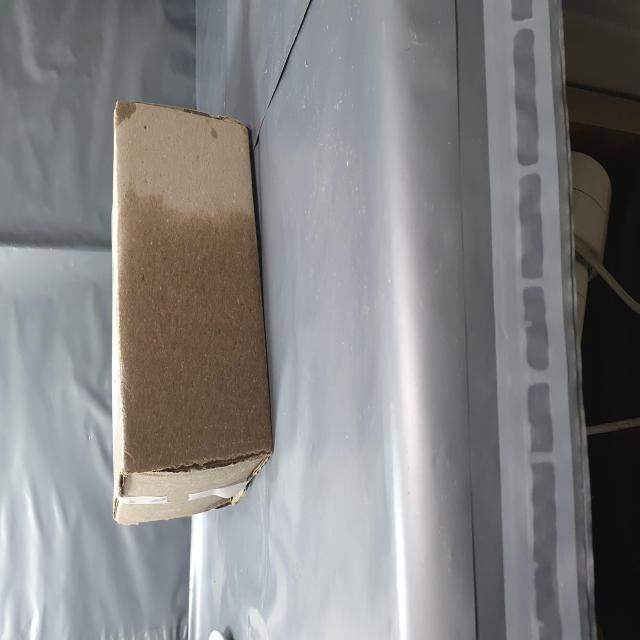wet: (90, 198, 307, 467)
